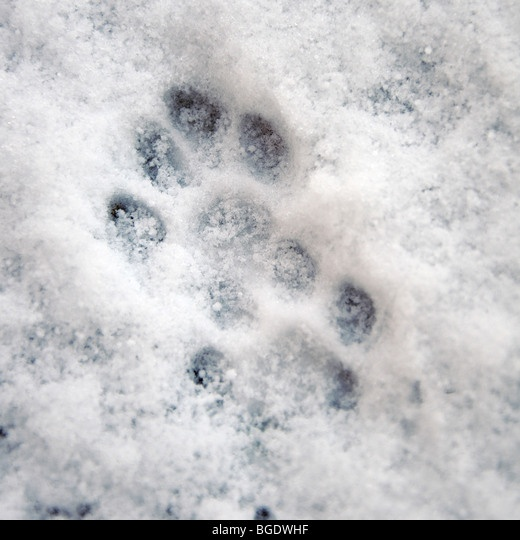fox: (98, 60, 396, 484)
